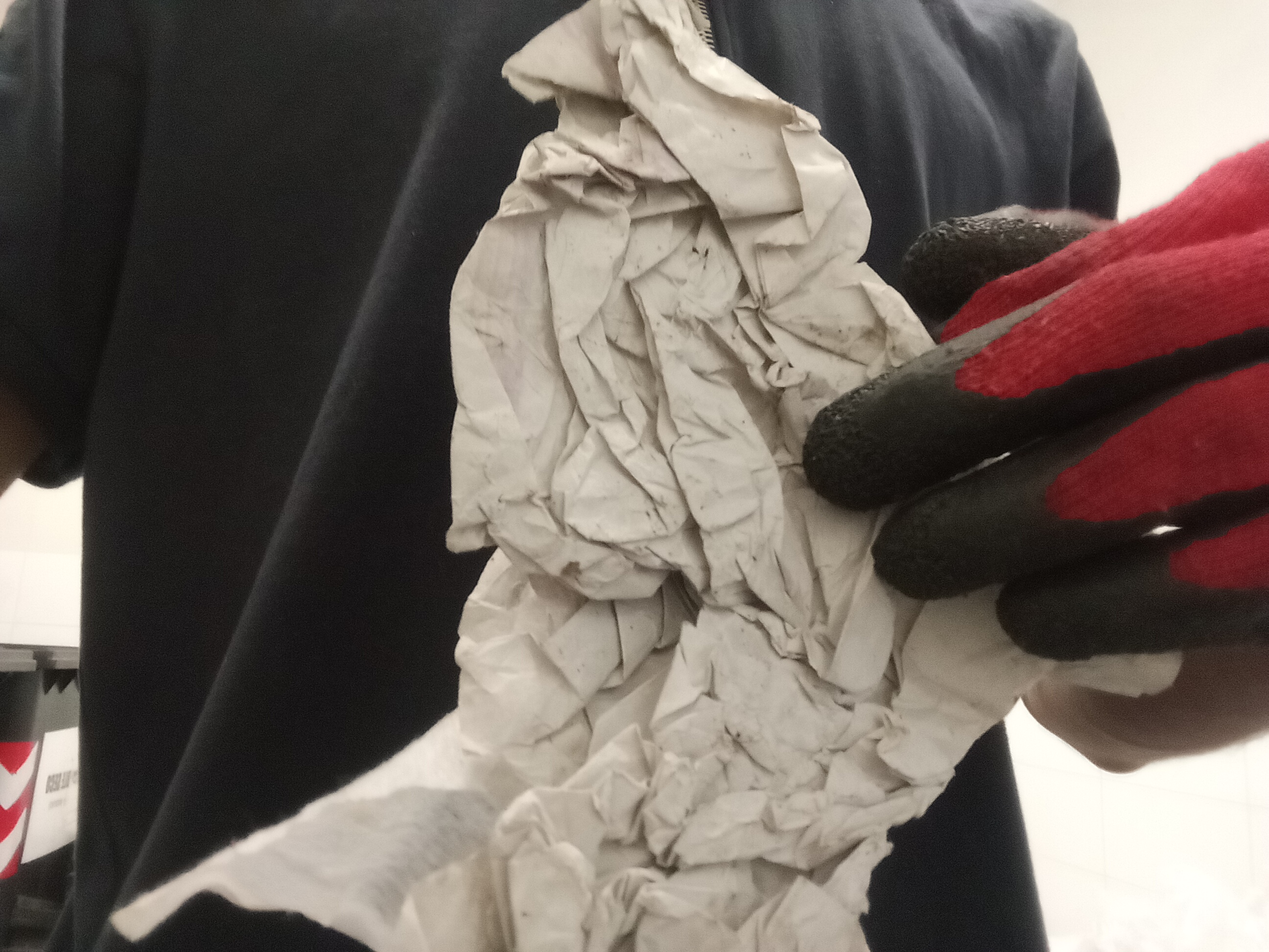Papel: (113, 0, 938, 952)
